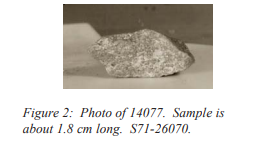Basalt: (85, 25, 195, 80)
